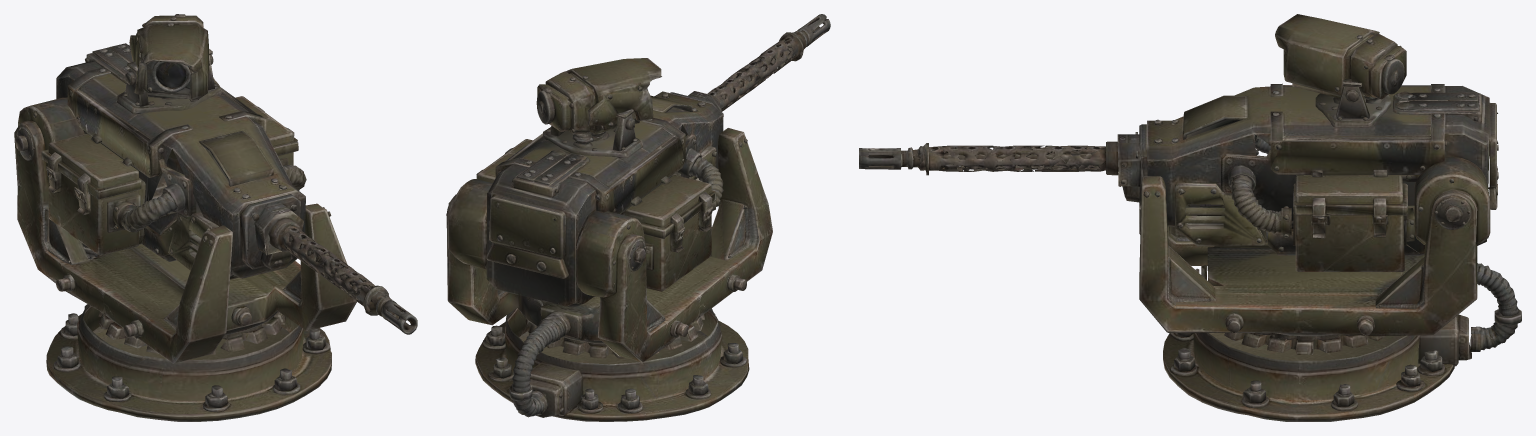
The model's file is train-turret.glb.
3 renders of one model, left to right at view 1: azimuth 30°, elevation 25°; view 2: azimuth 150°, elevation 25°; view 3: azimuth 270°, elevation 25°, orthographic. The views are drawn at different scales.
Parts seen in each view (by area): view 1: turret-head, turret-yoke, turret-base; view 2: turret-head, turret-yoke, turret-base; view 3: turret-head, turret-yoke, turret-base.
Part boxes in pixels (x1,y1,x2,y2): turret-head: [41, 14, 417, 334]; turret-yoke: [14, 78, 356, 363]; turret-base: [46, 304, 331, 421]; turret-head: [476, 14, 830, 307]; turret-yoke: [446, 128, 772, 417]; turret-base: [475, 308, 749, 421]; turret-head: [859, 14, 1498, 271]; turret-yoke: [1139, 144, 1521, 366]; turret-base: [1163, 333, 1454, 421].
Size of the model in its own units: 0.4233 by 0.5205 by 0.9575.
1 material, 1 textured.
